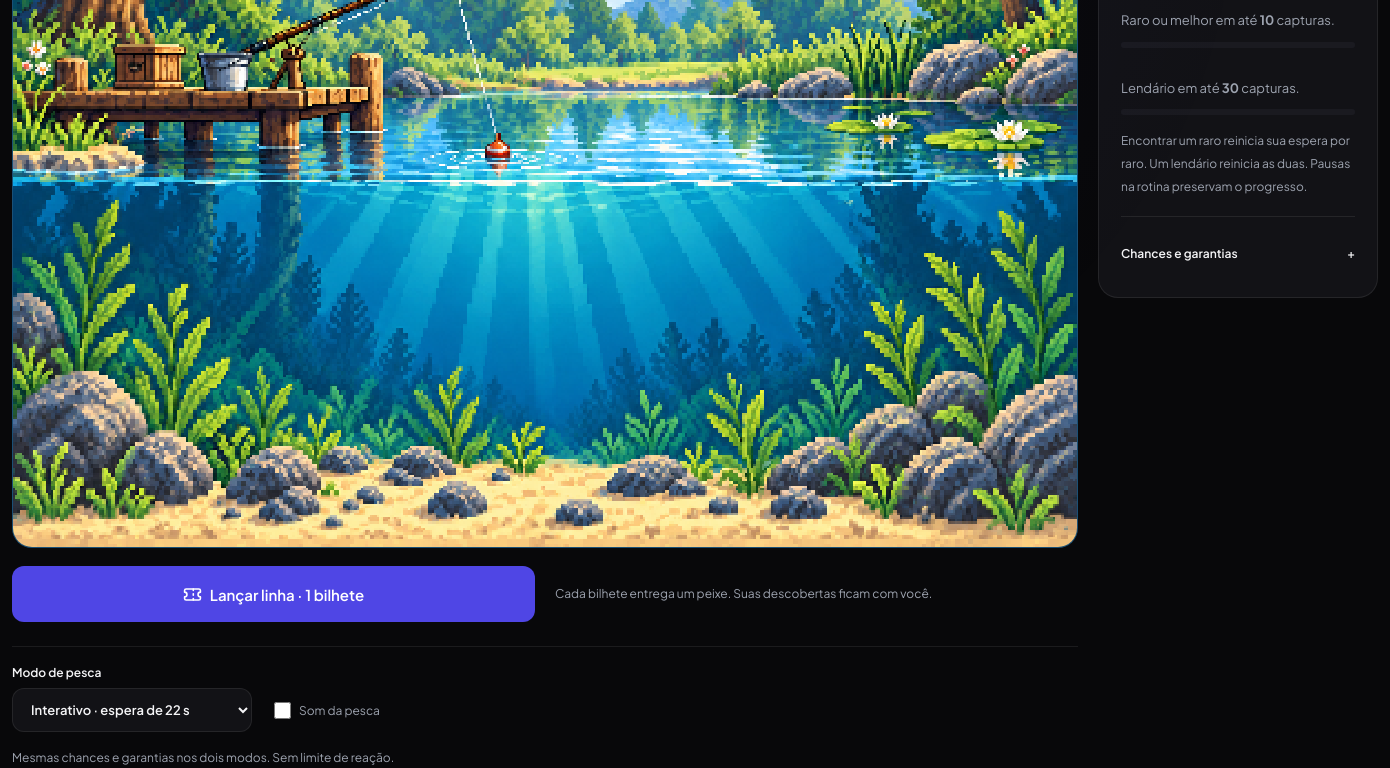
Test: stage 4 real guest interactions › pauses on loss of visibility and reveals the same attempt on demand
The image size is (1390, 768).
(page scrolled)
Click the button "Lançar linha · 1 bilhete": (274, 594) 12,566 -> 535,622
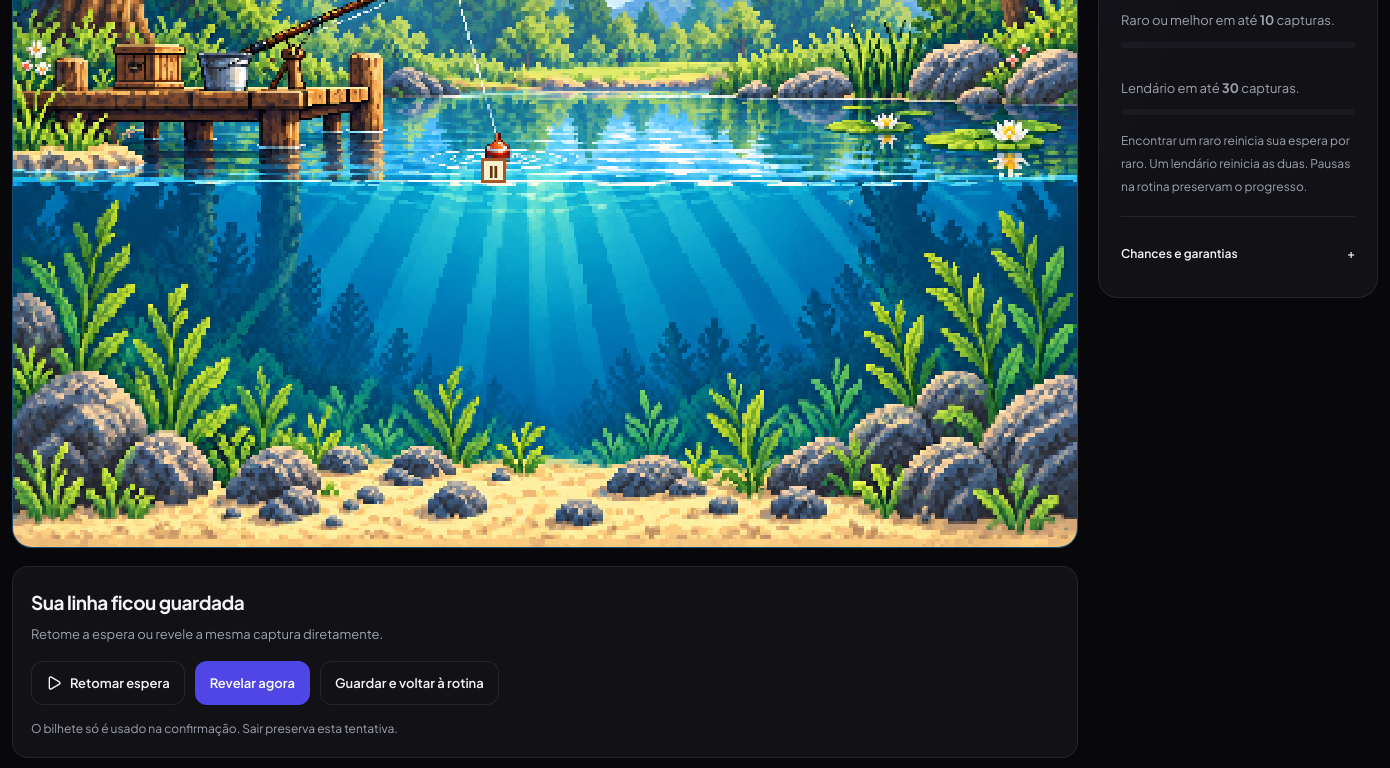
Now the heading "Sua linha ficou guardada" is shown, box 31,590 -> 244,614
Click the button "Revelar agora": (252, 683) 195,661 -> 310,705
(page scrolled)
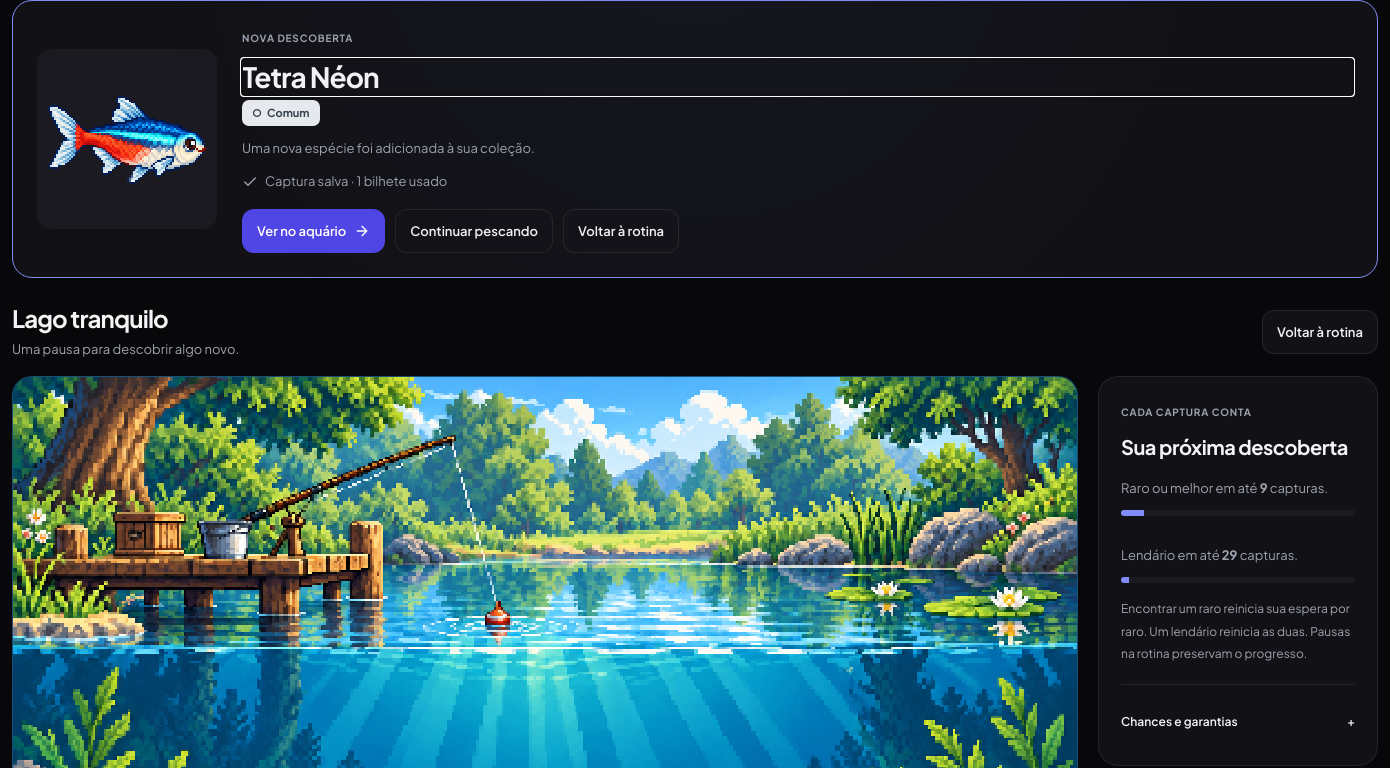
Now the text "Captura salva · 1 bilhete usado" is shown, box 242,173 -> 447,190
